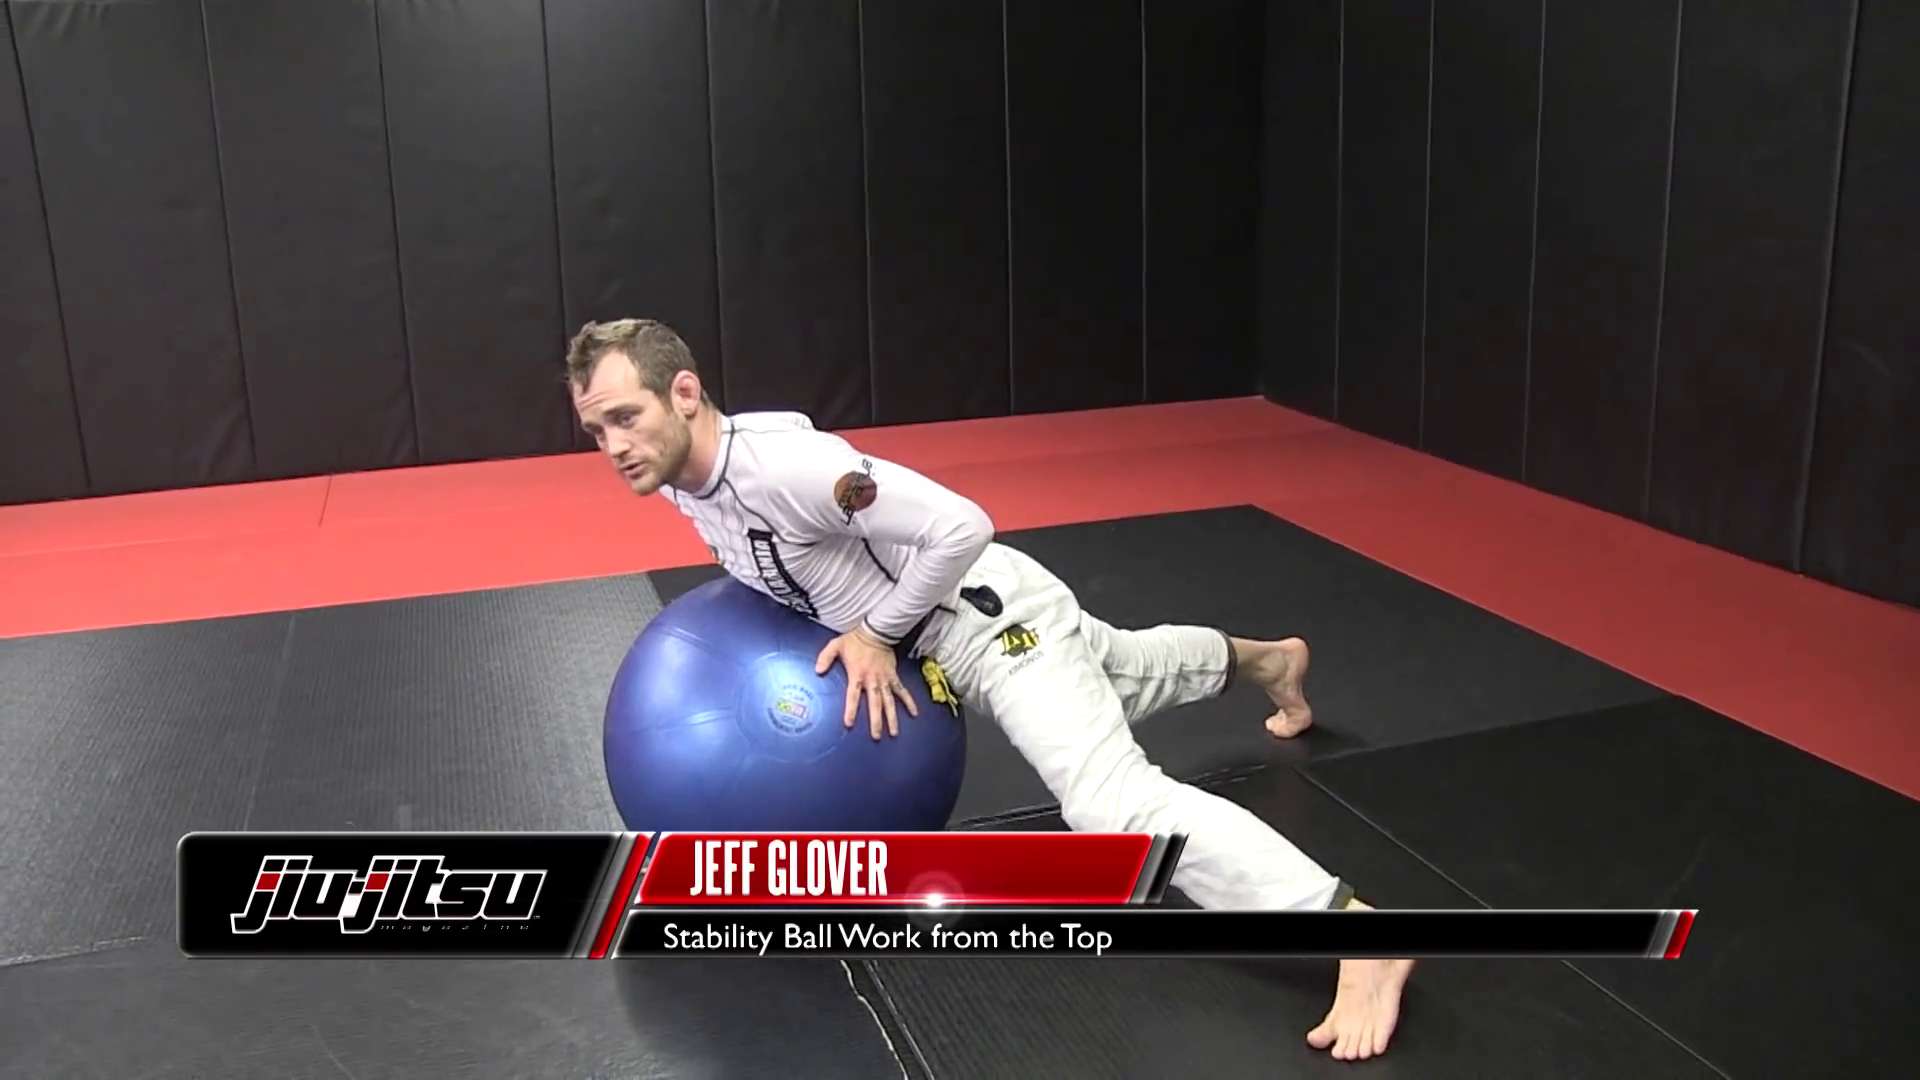yogaball: (576, 574, 989, 891)
